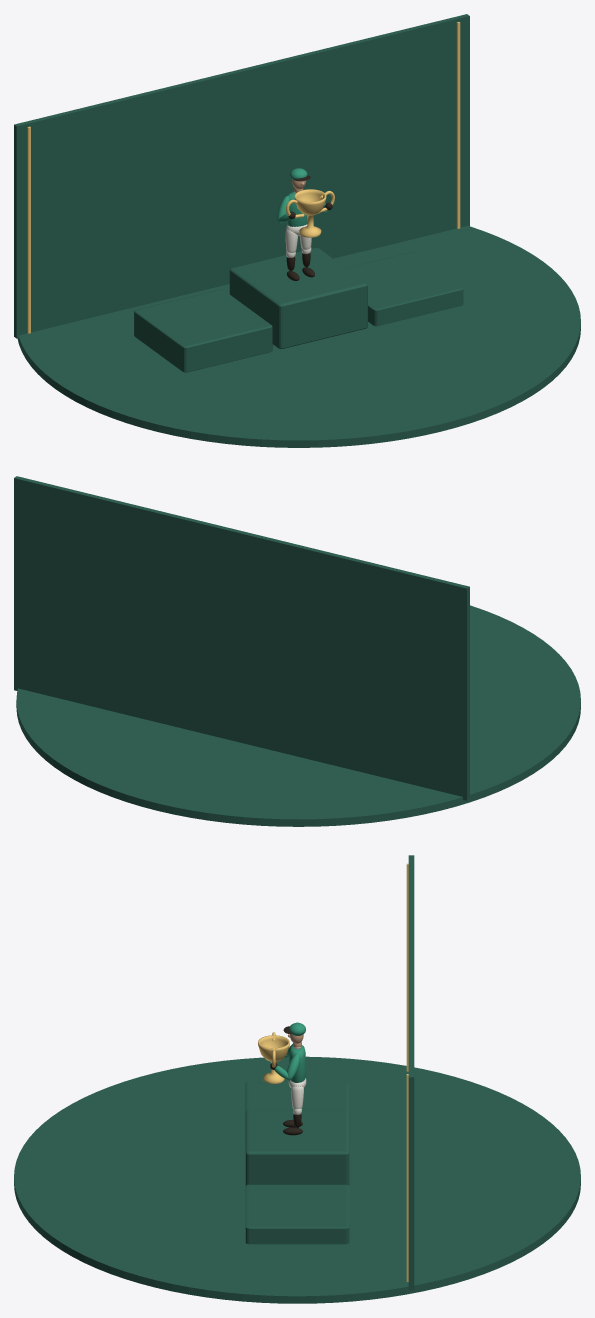
File: ceremony.glb
3 renders of one model, top to bottom at view 1: azimuth 30°, elevation 25°; view 2: azimuth 150°, elevation 25°; view 3: azimuth 270°, elevation 25°, orthographic.
Visible parts, largest first — view 1: AwardBackdrop, PresentationFloor, Podium.001, Podium, Podium.002, GoldStageTrim.001, GoldCup, GoldStageTrim; view 2: AwardBackdrop, PresentationFloor; view 3: PresentationFloor, Podium.001, Podium.002, AwardBackdrop, Podium, GoldCup, GoldStageTrim, GoldStageTrim.001.
Part boxes in pixels (x1,y1,x2,y2): AwardBackdrop: (14, 14, 469, 338); PresentationFloor: (17, 226, 580, 447); Podium.001: (229, 247, 367, 349); Podium: (134, 289, 272, 372); Podium.002: (346, 252, 463, 326); GoldStageTrim.001: (456, 22, 460, 228); GoldCup: (294, 189, 326, 237); GoldStageTrim: (27, 126, 30, 333); AwardBackdrop: (14, 476, 469, 800); PresentationFloor: (16, 605, 580, 826); PresentationFloor: (14, 1056, 580, 1303); Podium.001: (245, 1110, 349, 1185); Podium.002: (245, 1184, 349, 1244); AwardBackdrop: (408, 855, 414, 1290); Podium: (245, 1082, 349, 1111); GoldCup: (258, 1035, 289, 1083); GoldStageTrim: (406, 863, 408, 1071); GoldStageTrim.001: (406, 1074, 408, 1281).
Size of the model in its own units: 8.2 by 3.48 by 8.2.
